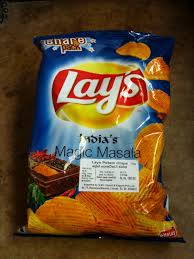lays-small: (37, 32, 171, 240)
